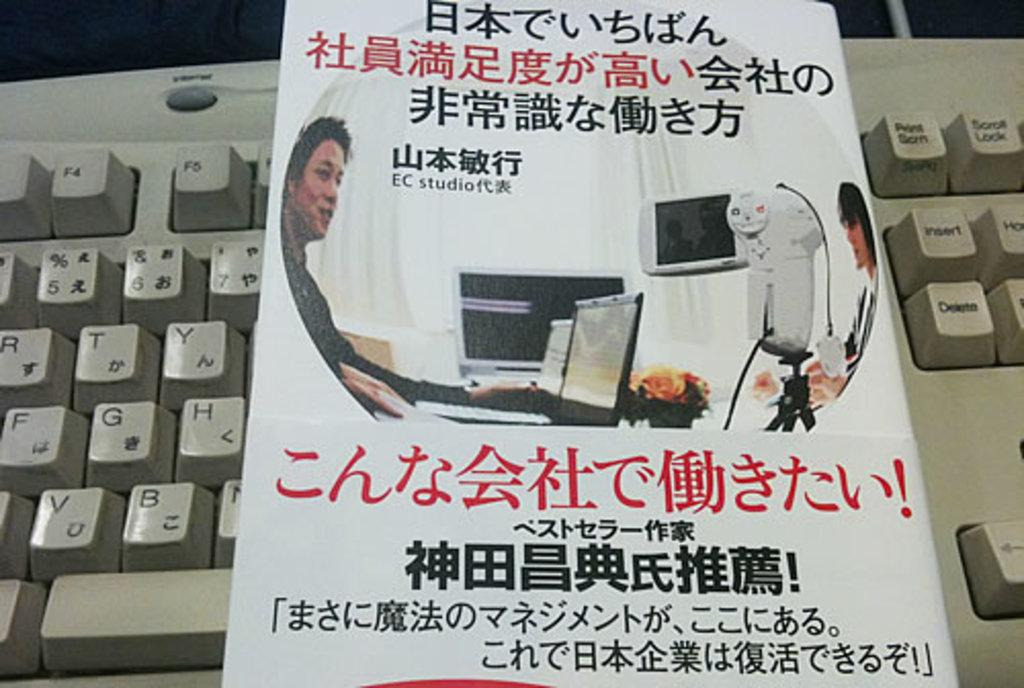Computer-keyboard: (0, 39, 1022, 686)
